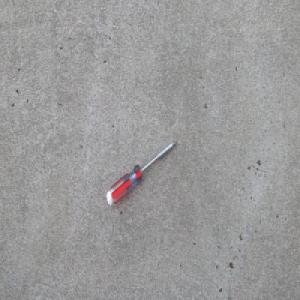Screwdriver: (105, 139, 177, 206)
